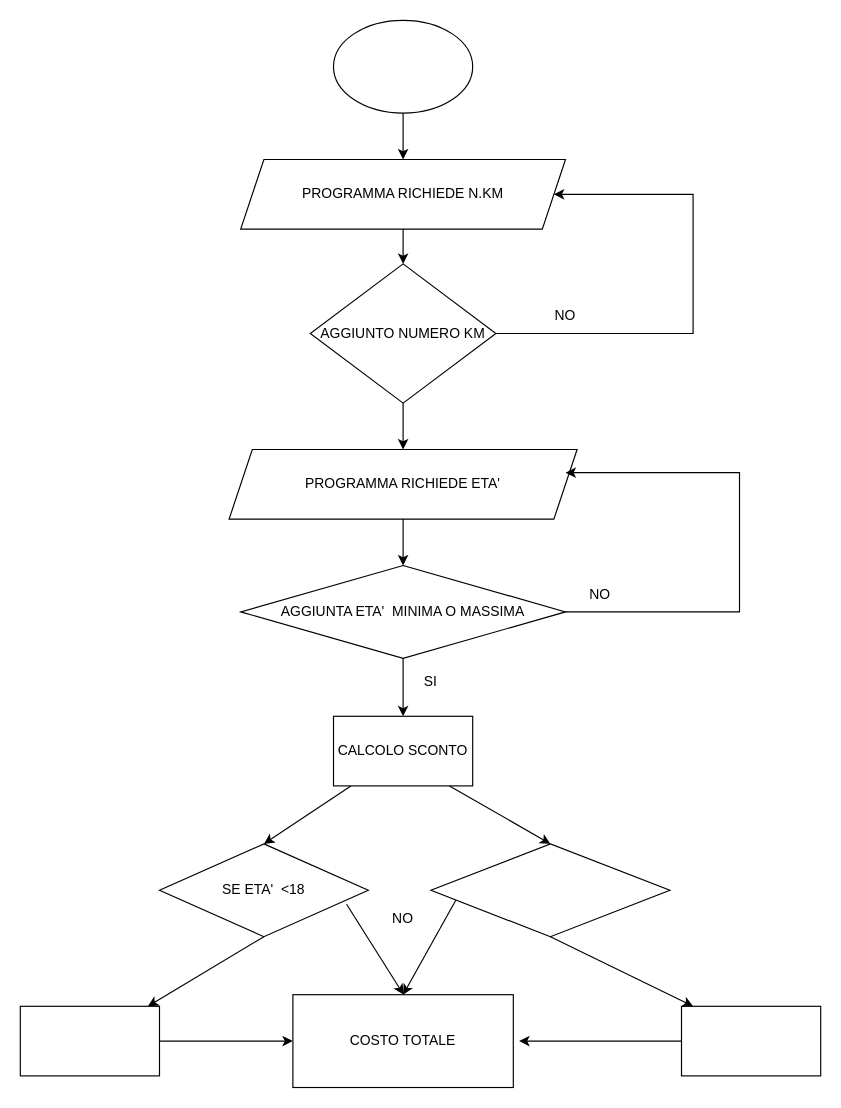
This 841x1108 diagram has some shape labels left out. The centre of each missing label's shape, as x and y in pixels:
INIZIO: point (402, 66)
SCONTO 20%: point (89, 1040)
SCONTO 40%: point (750, 1040)
SE ETA' >=65: point (550, 890)
